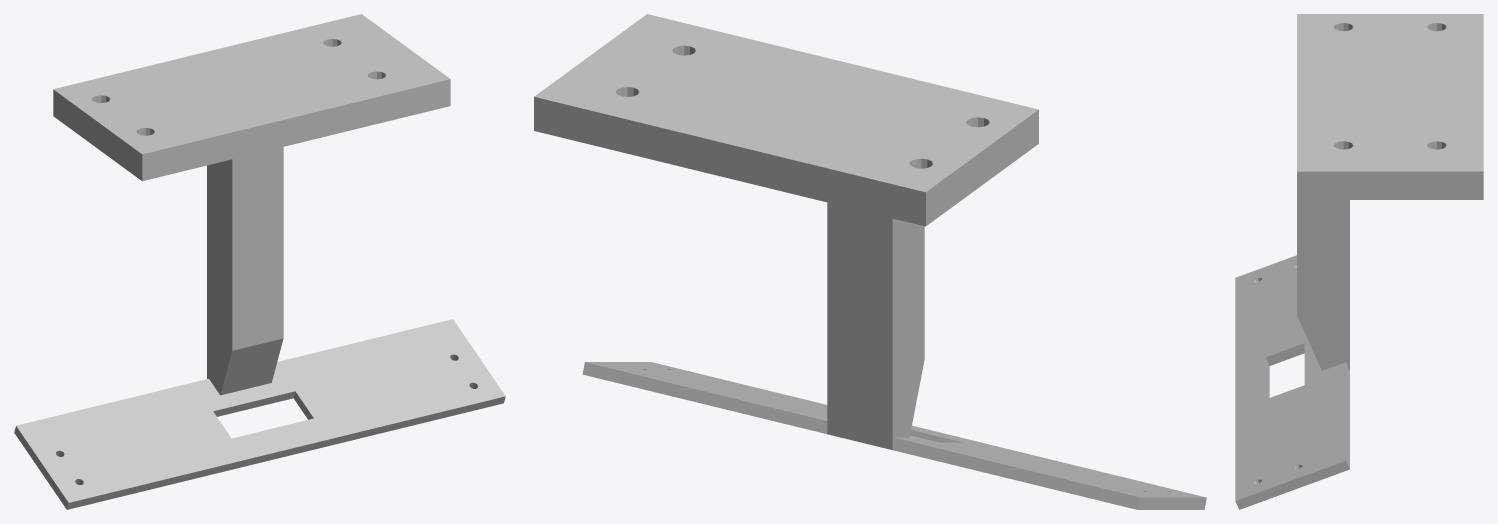
The model's file is zed2i_camera_base_link_vis.obj.
3 renders of one model, left to right at view 1: azimuth 30°, elevation 25°; view 2: azimuth 150°, elevation 25°; view 3: azimuth 270°, elevation 25°, orthographic. The views are drawn at different scales.
Visible parts, largest first — view 1: zed2i_camera_base_link; view 2: zed2i_camera_base_link; view 3: zed2i_camera_base_link.
Boxes of the visible parts, x1,y1,x2,y2 form: zed2i_camera_base_link: (14,14,505,509); zed2i_camera_base_link: (534,14,1206,509); zed2i_camera_base_link: (1235,14,1483,509).
Bounding box in the file's own units: 0.17 × 0.1154 × 0.0798.
1 material, 1 textured.
